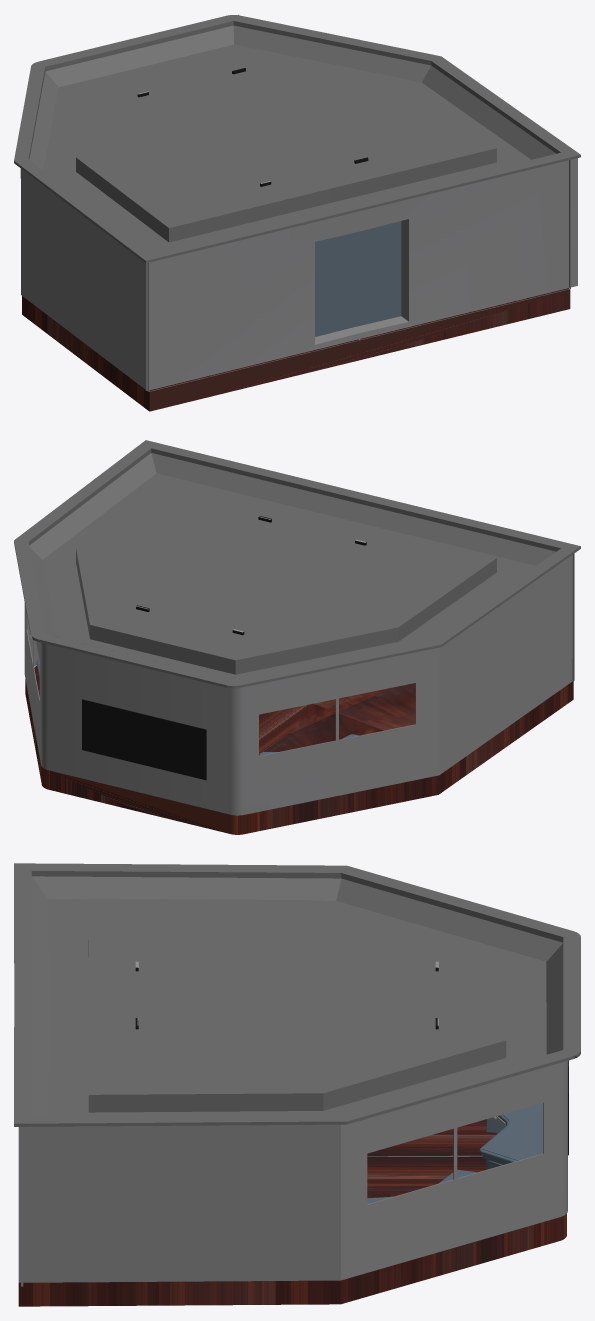
The model's file is Ruangan.fbx.
The picture shows the model from 3 angles, top to bottom: view 1: azimuth 30°, elevation 25°; view 2: azimuth 150°, elevation 25°; view 3: azimuth 270°, elevation 25°; orthographic projection. The views are drawn at different scales.
Visible parts, largest first — view 1: Plane.001, tembok belakang, Tembok lantai, Tembok lantai.001, Pintu; view 2: Plane.001, Tembok lantai, Tembok lantai.001, board; view 3: Plane.001, Tembok lantai, Tembok lantai.001, Plane.014, Plane.003.
Part boxes in pixels (x1,y1,x2,y2): Plane.001: (14, 15, 580, 263); tembok belakang: (145, 158, 577, 390); Tembok lantai: (20, 160, 570, 391); Tembok lantai.001: (22, 288, 570, 411); Pintu: (315, 221, 401, 336); Plane.001: (14, 440, 580, 688); Tembok lantai: (24, 555, 572, 815); Tembok lantai.001: (25, 665, 573, 834); board: (82, 699, 206, 780); Plane.001: (14, 863, 580, 1126); Tembok lantai: (18, 1061, 568, 1282); Tembok lantai.001: (18, 1119, 566, 1306); Plane.014: (482, 1103, 542, 1160); Plane.003: (479, 1115, 517, 1169).
Size of the model in its own units: 2596 by 877 by 2388.
Materials: 9 (1 with a texture image).
